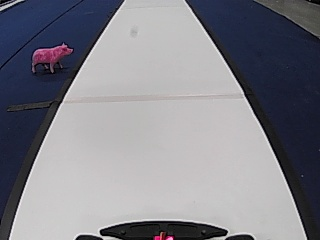pig: (29, 40, 72, 74)
